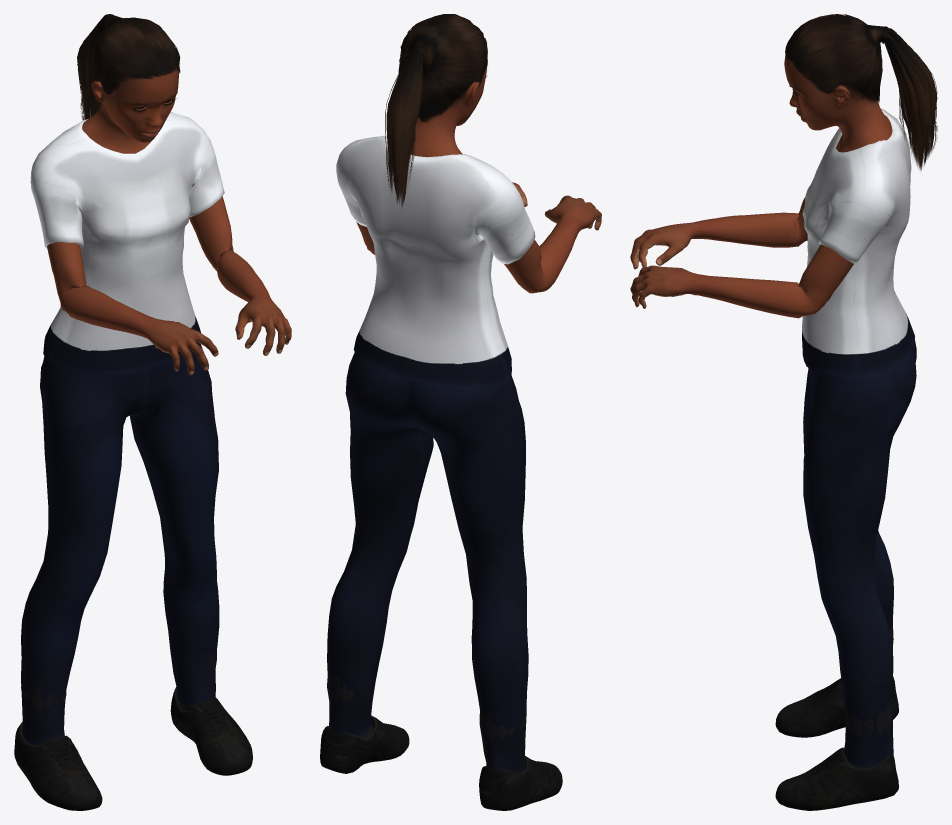
The model's file is g2_counter.glb.
3 views of the same model, side by side, from view 1: azimuth 30°, elevation 25°; view 2: azimuth 150°, elevation 25°; view 3: azimuth 270°, elevation 25° (orthographic).
Visible parts, largest first — view 1: g2.female_casualsuit01, g2, g2.shoes02, g2.ponytail01; view 2: g2.female_casualsuit01, g2.ponytail01, g2.shoes02, g2; view 3: g2.female_casualsuit01, g2, g2.ponytail01, g2.shoes02.
Part boxes in pixels (bbox=[...]): g2.female_casualsuit01: bbox=[21, 112, 224, 744]; g2: bbox=[47, 68, 291, 375]; g2.shoes02: bbox=[14, 648, 252, 810]; g2.ponytail01: bbox=[77, 14, 180, 120]; g2.female_casualsuit01: bbox=[327, 135, 535, 772]; g2.ponytail01: bbox=[385, 14, 487, 207]; g2.shoes02: bbox=[320, 672, 562, 810]; g2: bbox=[356, 54, 601, 293]; g2.female_casualsuit01: bbox=[802, 108, 916, 767]; g2: bbox=[630, 54, 892, 318]; g2.ponytail01: bbox=[785, 14, 937, 170]; g2.shoes02: bbox=[775, 624, 898, 810].
Bounding box in the file's own units: 0.4494 × 1.56 × 0.5781.
Materials: 7 (7 with a texture image).
